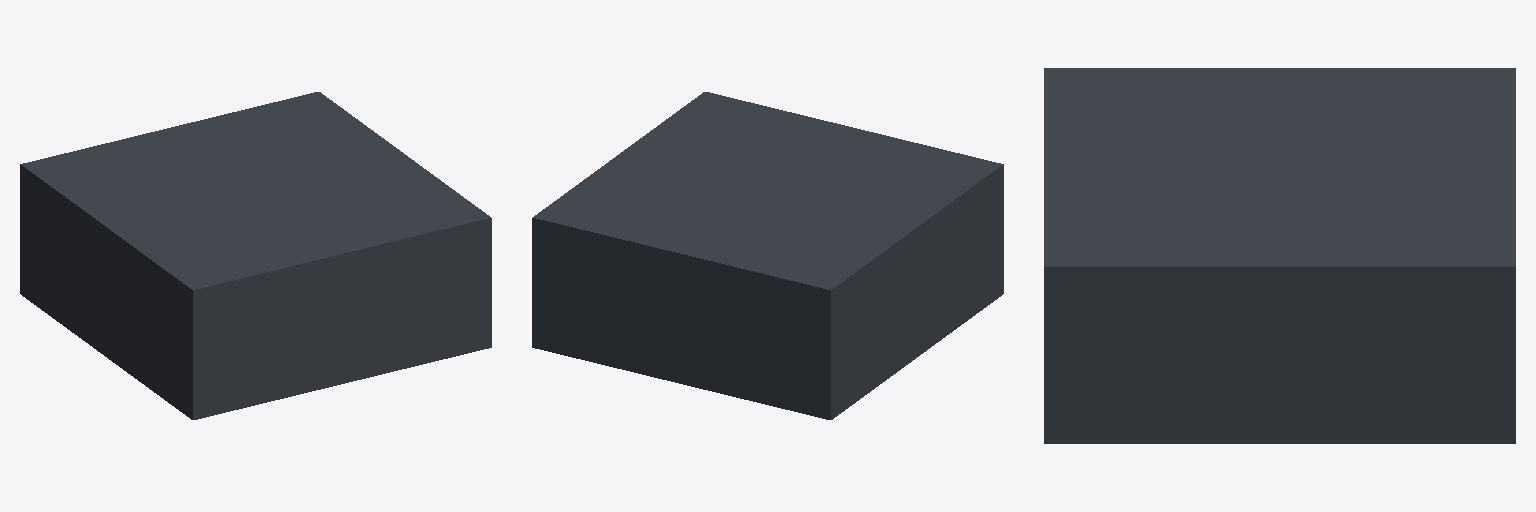
URDF robot description (support_airfryer):
<?xml version='1.0' encoding='utf-8'?>
<robot name="support_airfryer"><link name="support_airfryer__base"><inertial><mass value="2" /><inertia ixx=".01" iyy=".01" izz=".01" ixy="0" ixz="0" iyz="0" /></inertial><visual><geometry><box size="0.24 0.24 0.1" /></geometry><material name="support_airfryer__finish"><color rgba=".3 .32 .35 1" /></material></visual><collision><geometry><box size="0.24 0.24 0.1" /></geometry></collision></link></robot>

--- What the picture shows (computed from the rendered views, not written in the file) ---
3 views of the same robot in one strip: view 1: azimuth 30°, elevation 25°; view 2: azimuth 150°, elevation 25°; view 3: azimuth 270°, elevation 25° (orthographic).
Robot: support_airfryer — 1 links, 0 joints (none); root link support_airfryer__base; default pose: all joints at 0.
Links seen in each view (by area): view 1: support_airfryer__base; view 2: support_airfryer__base; view 3: support_airfryer__base.
Boxes of the visible links, x1,y1,x2,y2 form: support_airfryer__base: (20, 92, 491, 419); support_airfryer__base: (532, 92, 1003, 419); support_airfryer__base: (1044, 68, 1515, 443).
Size in the robot's own frame: 0.24 by 0.24 by 0.1 metres.
Geometry: primitives only (box / cylinder / sphere), no mesh files.
